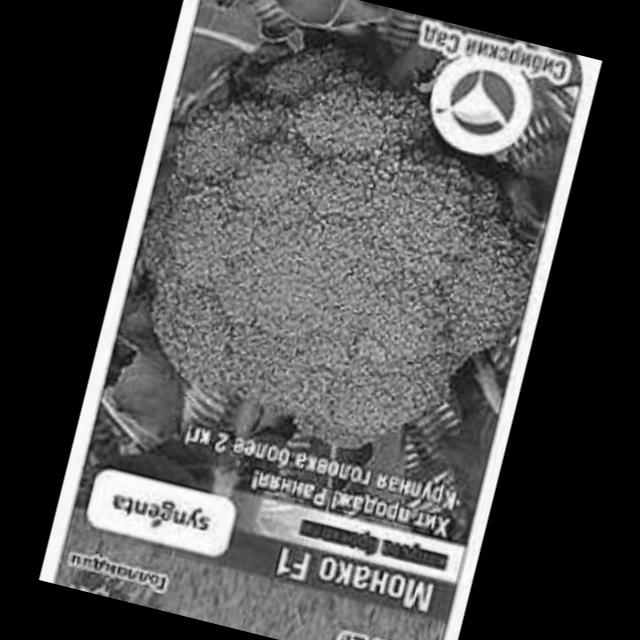broccoli: (101, 3, 578, 484)
